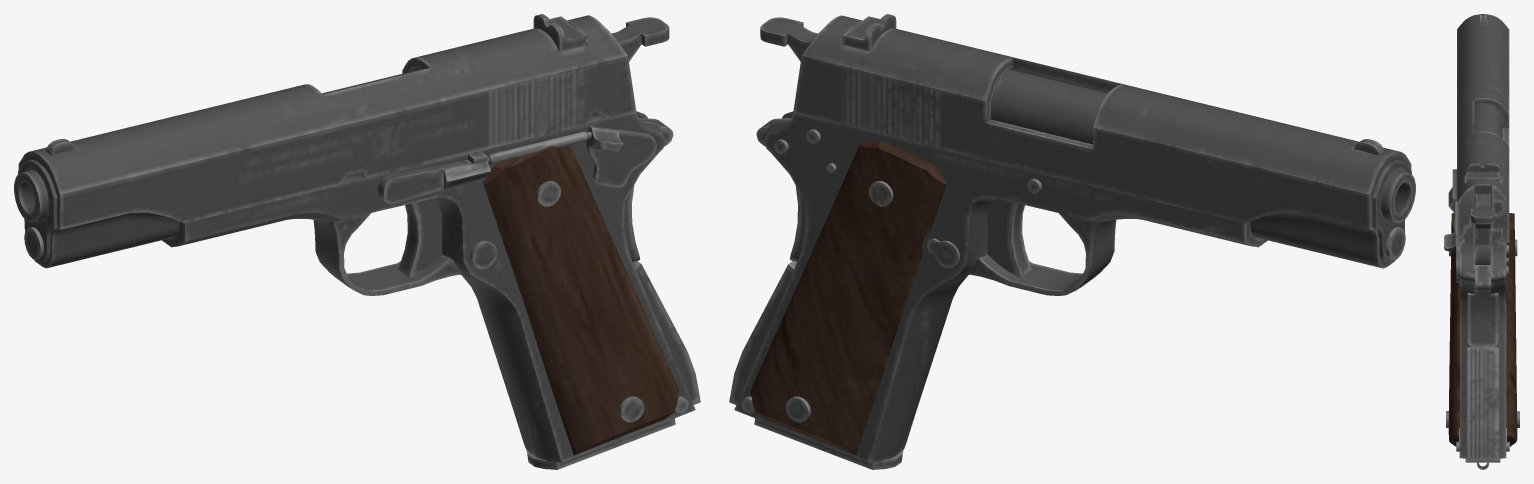
3 views of the same model, side by side, from view 1: azimuth 30°, elevation 25°; view 2: azimuth 150°, elevation 25°; view 3: azimuth 270°, elevation 25° (orthographic). The views are drawn at different scales.
Parts seen in each view (by area): view 1: Plane_low_Material_0; view 2: Plane_low_Material_0; view 3: Plane_low_Material_0.
Boxes of the visible parts, <box> form: Plane_low_Material_0: <box>14,14,700,469</box>; Plane_low_Material_0: <box>729,14,1415,469</box>; Plane_low_Material_0: <box>1444,14,1519,469</box>.
Size of the model in its own units: 0.2999 by 0.1904 by 0.0475.
Materials: 1 (1 with a texture image).
